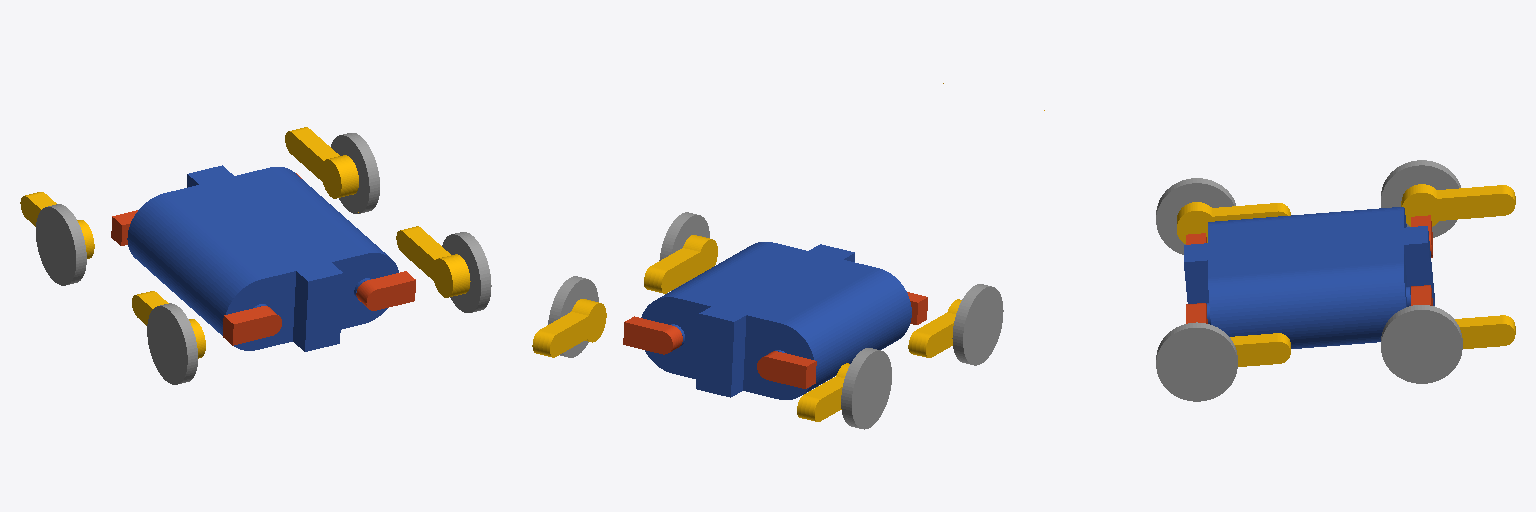
--- Facts derived from the render (not from the file) ---
Views: 3 orthographic renders of the robot side by side, from view 1: azimuth 30°, elevation 25°; view 2: azimuth 150°, elevation 25°; view 3: azimuth 270°, elevation 25°.
Model wheely with 18 links and 17 joints (16 revolute, 1 fixed), rooted at base, posed all joints at 0.
Links seen in each view (by area): view 1: trunk, BRW, FRW, BLLL, FLLL, FLW, BLW, FLH, FRH, FRLL, BRLL, BRH; view 2: trunk, BRW, FRW, BLLL, FLLL, BRH, BLH, FRLL, BRLL, BLW, FLW; view 3: trunk, BLW, FLW, BRLL, FRW, BRW, FRLL, FLLL, BLLL.
Boxes of the visible links, x1=… form: trunk: x1=127, y1=165, x2=398, y2=351; BRW: x1=36, y1=204, x2=86, y2=285; FRW: x1=147, y1=303, x2=197, y2=384; BLLL: x1=285, y1=127, x2=358, y2=198; FLLL: x1=396, y1=226, x2=470, y2=297; FLW: x1=442, y1=232, x2=491, y2=312; BLW: x1=331, y1=133, x2=379, y2=213; FLH: x1=356, y1=271, x2=415, y2=310; FRH: x1=223, y1=306, x2=281, y2=345; FRLL: x1=132, y1=291, x2=205, y2=358; BRLL: x1=20, y1=192, x2=94, y2=258; BRH: x1=111, y1=210, x2=137, y2=245; trunk: x1=641, y1=242, x2=911, y2=399; BRW: x1=841, y1=348, x2=891, y2=429; FRW: x1=952, y1=284, x2=1003, y2=365; BLLL: x1=532, y1=299, x2=606, y2=357; FLLL: x1=644, y1=235, x2=717, y2=293; BRH: x1=757, y1=351, x2=816, y2=388; BLH: x1=623, y1=316, x2=682, y2=354; FRLL: x1=908, y1=299, x2=961, y2=357; BRLL: x1=797, y1=363, x2=849, y2=421; BLW: x1=548, y1=276, x2=598, y2=357; FLW: x1=659, y1=212, x2=709, y2=288; trunk: x1=1184, y1=207, x2=1434, y2=348; BLW: x1=1381, y1=305, x2=1462, y2=383; FLW: x1=1156, y1=322, x2=1237, y2=401; BRLL: x1=1401, y1=184, x2=1515, y2=226; FRW: x1=1156, y1=178, x2=1235, y2=254; BRW: x1=1381, y1=160, x2=1460, y2=237; FRLL: x1=1177, y1=202, x2=1290, y2=243; FLLL: x1=1230, y1=333, x2=1290, y2=366; BLLL: x1=1455, y1=315, x2=1515, y2=348.
Bounding box of the posed robot: 0.433 × 0.5761 × 0.2688 m (x, y, z).
Meshes: 5 distinct files referenced, 13 mesh visuals loaded (4 binary STL); not drawn: 4 (reference not matched to a file when rendering).

The robot description file, URDF, robot "wheely":
<?xml version="1.0" encoding="utf-8"?>
<robot name="wheely">
    <link name="base">
        <visual>
            <origin rpy="0 0 0" xyz="0 0 0" />
            <geometry>
                <box size="0.001 0.001 0.001" />
            </geometry>
        </visual>
    </link>
    <joint name="floating_base" type="fixed">
        <origin rpy="0 0 0" xyz="0 0 0" />
        <parent link="base" />
        <child link="trunk" />
    </joint>
    <link name="trunk">
        <visual>
            <origin xyz="0.052028044034958947917 0.32788004898623768213 -0.25518667591527960381"
                rpy="0.087266480467832654999 -1.4990033074911502359e-08 -2.2094851261557873804e-08" />
            <geometry>
                <mesh filename="../meshes/V2.8/trunk.stl" />
            </geometry>
            <material name="trunk_material">
                <color rgba="0.2313725490196078538 0.38039215686274507888 0.7058823529411765163 1.0" />
            </material>
        </visual>
        <collision>
            <origin xyz="0.052028044034958947917 0.32788004898623768213 -0.25518667591527960381"
                rpy="0.087266480467832654999 -1.4990033074911502359e-08 -2.2094851261557873804e-08" />
            <geometry>
                <mesh filename="../meshes/V2.8/trunk.stl" />
            </geometry>
        </collision>
        <inertial>
            <origin xyz="0.052028043192024649166 0.32352226095884867307 -0.20537694108855775177"
                rpy="0 0 0" />
            <mass value="1.0520000000000000462" />
            <inertia ixx="0.0066139164607848313637" ixy="-2.2127823919599840592e-11"
                ixz="-6.4087305219667747752e-11" iyy="0.0053174843071791873944"
                iyz="-0.00043473231152154929047" izz="0.010248462186210408054" />
        </inertial>
    </link>

    <link name="FRH">
        <visual>
            <origin xyz="0.032215611636638635806 0.028555101990603987128 0"
                rpy="1.570796326794896558 1.1108205397628203633e-25 2.389243996016179635e-24" />
            <geometry>
                <mesh filename="../meshes/V2.8/h.stl" />
            </geometry>
            <material name="h_material">
                <color
                    rgba="0.86666666666666669627 0.32156862745098041545 0.15686274509803921351 1.0" />
            </material>
        </visual>
        <collision>
            <origin xyz="0.032215611636638635806 0.028555101990603987128 0"
                rpy="1.570796326794896558 1.1108205397628203633e-25 2.389243996016179635e-24" />
            <geometry>
                <mesh filename="../meshes/V2.8/h.stl" />
            </geometry>
        </collision>
        <inertial>
            <origin
                xyz="0.021525592503996215932 -1.7347234759768070944e-17 -0.012500000000000000694"
                rpy="0 0 0" />
            <mass value="0.0090000000000000010547" />
            <inertia ixx="1.1139804559497147109e-06" ixy="-4.7104694595813762511e-30"
                ixz="2.1217815524415606115e-30" iyy="3.861958513835964979e-06"
                iyz="4.2501859106604311021e-23" izz="4.0384389697856793485e-06" />
        </inertial>
    </link>

    <link name="FRLU">
        <visual>
            <origin
                xyz="2.7755575615628913511e-17 2.7755575615628913511e-17 -0.044999999999999998335"
                rpy="-1.570796326794896558 -1.570796326794896558 0" />
            <geometry>
                <mesh filename="../meshes/V2.8/lu.stl" />
            </geometry>
            <material name="lu_material">
                <color
                    rgba="0.90980392156862743835 0.57254901960784310155 0.16470588235294117418 1.0" />
            </material>
        </visual>
        <collision>
            <origin
                xyz="2.7755575615628913511e-17 2.7755575615628913511e-17 -0.044999999999999998335"
                rpy="-1.570796326794896558 -1.570796326794896558 0" />
            <geometry>
                <mesh filename="../meshes/V2.8/lu.stl" />
            </geometry>
        </collision>
        <inertial>
            <origin
                xyz="3.3936924476517365403e-17 -0.049999999999999968081 -0.022499999999999992228"
                rpy="0 0 0" />
            <mass value="0.37600000000000000089" />
            <inertia ixx="0.00054596018323756559387" ixy="-6.2909339871692696768e-21"
                ixz="-2.7466218204555690158e-28" iyy="9.0305640199817038306e-05"
                iyz="-1.1186833988322070734e-27" izz="0.00050936582343738242076" />
        </inertial>
    </link>

    <link name="FRLL">
        <visual>
            <origin xyz="0 0 -0.024999999999999980571"
                rpy="-1.570796326794896558 -1.570796326794896558 0" />
            <geometry>
                <mesh filename="../meshes/V2.8/ll.stl" />
            </geometry>
            <material name="ll_material">
                <color rgba="1 0.7568627450980391913 0.054901960784313724728 1.0" />
            </material>
        </visual>
        <collision>
            <origin xyz="0 0 -0.024999999999999980571"
                rpy="-1.570796326794896558 -1.570796326794896558 0" />
            <geometry>
                <mesh filename="../meshes/V2.8/ll.stl" />
            </geometry>
        </collision>
        <inertial>
            <origin
                xyz="5.4351954812993782202e-18 -0.061136909622975937895 -0.012499999999999978142"
                rpy="0 0 0" />
            <mass value="0.058000000000000002942" />
            <inertia ixx="9.3657217382847482521e-05" ixy="1.8944387790966397996e-21"
                ixz="1.9264078887896144911e-28" iyy="9.3296789238021415761e-06"
                iyz="8.0611222752185609261e-29" izz="9.6945229639982987888e-05" />
        </inertial>
    </link>

    <link name="FRW">
        <visual>
            <origin xyz="-0.087087206542491885086 -0.027046862989664105514 -0.015000000000000041078"
                rpy="-1.570796326794896558 -1.570796326794896558 0" />
            <geometry>
                <mesh filename="../meshes/V2.8/w.stl" />
            </geometry>
            <material name="w_material">
                <color
                    rgba="0.64705882352941179736 0.64705882352941179736 0.64705882352941179736 1.0" />
            </material>
        </visual>
        <collision>
            <origin xyz="-0.087087206542491885086 -0.027046862989664105514 -0.015000000000000041078"
                rpy="-1.570796326794896558 -1.570796326794896558 0" />
            <geometry>
                <mesh filename="../meshes/V2.8/w.stl" />
            </geometry>
        </collision>
        <inertial>
            <origin
                xyz="4.1117825183426055003e-17 -2.7755575615628913511e-17 -0.0075000000000000422232"
                rpy="0 0 0" />
            <mass value="0.036999999999999998168" />
            <inertia ixx="2.3818750000000009755e-05" ixy="-3.3980231466975062248e-22"
                ixz="-2.3298381774475384034e-28" iyy="2.3818750000000006367e-05"
                iyz="6.4062349800968410432e-29" izz="4.6249999999999985784e-05" />
        </inertial>
    </link>

    <joint name="FRW" type="revolute">
        <origin xyz="0 -0.09999999999999995004 -0.025499999999999981015"
            rpy="1.9733806694702264955e-23 -1.1152152026486324738e-23 1.57079632679489678" />
        <parent link="FRLL" />
        <child link="FRW" />
        <axis xyz="0 0 1" />
        <limit effort="3.43" velocity="1.5707" />
        <joint_properties friction="0.0" />
    </joint>

    <joint name="FRK" type="revolute">
        <origin xyz="2.7755575615628913511e-17 -0.099999999999999894529 -0.045500000000000012657"
            rpy="-7.1116470838921432146e-22 -2.2925350776676440181e-23 3.141592653589753148" />
        <parent link="FRLU" />
        <child link="FRLL" />
        <axis xyz="0 0 1" />
        <limit effort="6.864655" velocity="8.055365759832842" lower="0" upper="3.141592653589793116" />
        <joint_properties friction="0.0" />
    </joint>

    <joint name="FRHL" type="revolute">
        <origin xyz="0.055499999999999966027 -5.5511151231257827021e-17 -0.012499999999999983347"
            rpy="-1.570796326794896558 -1.7868117234929788401e-08 1.5707963267948958919" />
        <parent link="FRH" />
        <child link="FRLU" />
        <axis xyz="0 0 1" />
        <limit effort="6.864655" velocity="8.055365759832842" lower="-3.141592653589793116" upper="0" />
        <joint_properties friction="0.0" />
    </joint>

    <joint name="FRHU" type="revolute">
        <origin xyz="-0.022971959406365649592 0.19849982820089065449 -0.21631499016155675275"
            rpy="1.4835298463270636393 1.4990033393763916416e-08 3.1415926314949418341" />
        <parent link="trunk" />
        <child link="FRH" />
        <axis xyz="0 0 1" />
        <limit effort="6.864655" velocity="8.055365759832842" lower="-1.570796326794896558" upper="1.570796326794896558" />
        <joint_properties friction="0.0" />
    </joint>

    <link name="FLH">
        <visual>
            <origin xyz="0.032215611636638635806 0.028555101990604014883 0"
                rpy="1.570796326794896558 9.1075724079965769096e-25 1.505906012323039885e-24" />
            <geometry>
                <mesh filename="../meshes/V2.8/h.stl" />
            </geometry>
            <material name="h_material">
                <color
                    rgba="0.86666666666666669627 0.32156862745098041545 0.15686274509803921351 1.0" />
            </material>
        </visual>
        <collision>
            <origin xyz="0.032215611636638635806 0.028555101990604014883 0"
                rpy="1.570796326794896558 9.1075724079965769096e-25 1.505906012323039885e-24" />
            <geometry>
                <mesh filename="../meshes/V2.8/h.stl" />
            </geometry>
        </collision>
        <inertial>
            <origin xyz="0.021525592503996215932 1.0408340855860842566e-17 -0.012500000000000000694"
                rpy="0 0 0" />
            <mass value="0.0090000000000000010547" />
            <inertia ixx="1.1139804559497151344e-06" ixy="-1.9689084518447163995e-31"
                ixz="3.3800616490418434534e-30" iyy="3.861958513835964979e-06"
                iyz="-2.7196292853585677277e-23" izz="4.0384389697856793485e-06" />
        </inertial>
    </link>

    <link name="FLLU">
        <visual>
            <origin xyz="-2.7755575615628913511e-17 -2.7755575615628913511e-17 0"
                rpy="1.570796326794896558 1.570796326794896558 0" />
            <geometry>
                <mesh filename="../meshes/V2.8/lu.stl" />
            </geometry>
            <material name="lu_material">
                <color
                    rgba="0.90980392156862743835 0.57254901960784310155 0.16470588235294117418 1.0" />
            </material>
        </visual>
        <collision>
            <origin xyz="-2.7755575615628913511e-17 -2.7755575615628913511e-17 0"
                rpy="1.570796326794896558 1.570796326794896558 0" />
            <geometry>
                <mesh filename="../meshes/V2.8/lu.stl" />
            </geometry>
        </collision>
        <inertial>
            <origin
                xyz="-2.2274676627093840081e-17 0.049999999999999981959 -0.022500000000000006106"
                rpy="0 0 0" />
            <mass value="0.37600000000000000089" />
            <inertia ixx="0.00054596018323756537703" ixy="-2.2992841737624431057e-21"
                ixz="2.7015283880290629614e-28" iyy="9.0305640199817092516e-05"
                iyz="-9.070826082759685624e-29" izz="0.00050936582343738242076" />
        </inertial>
    </link>

    <link name="FLLL">
        <visual>
            <origin xyz="0 0 0" rpy="1.570796326794896558 1.570796326794896558 0" />
            <geometry>
                <mesh filename="../meshes/V2.8/ll.stl" />
            </geometry>
            <material name="ll_material">
                <color rgba="1 0.7568627450980391913 0.054901960784313724728 1.0" />
            </material>
        </visual>
        <collision>
            <origin xyz="0 0 0" rpy="1.570796326794896558 1.570796326794896558 0" />
            <geometry>
                <mesh filename="../meshes/V2.8/ll.stl" />
            </geometry>
        </collision>
        <inertial>
            <origin xyz="5.7405508275014623238e-18 0.061136909622975937895 -0.012500000000000002429"
                rpy="0 0 0" />
            <mass value="0.058000000000000002942" />
            <inertia ixx="9.3657217382847509626e-05" ixy="1.3290574521296746837e-21"
                ixz="6.6457046954983543975e-31" iyy="9.3296789238021415761e-06"
                iyz="1.723172485519355639e-28" izz="9.6945229639982987888e-05" />
        </inertial>
    </link>

    <link name="FLW">
        <visual>
            <origin xyz="-0.087087206542491898964 0.027046862989664105514 0"
                rpy="1.570796326794896558 1.570796326794896558 0" />
            <geometry>
                <mesh filename="../meshes/V2.8/w.stl" />
            </geometry>
            <material name="w_material">
                <color
                    rgba="0.64705882352941179736 0.64705882352941179736 0.64705882352941179736 1.0" />
            </material>
        </visual>
        <collision>
            <origin xyz="-0.087087206542491898964 0.027046862989664105514 0"
                rpy="1.570796326794896558 1.570796326794896558 0" />
            <geometry>
                <mesh filename="../meshes/V2.8/w.stl" />
            </geometry>
        </collision>
        <inertial>
            <origin
                xyz="1.4189161324449813362e-17 2.7755575615628913511e-17 -0.0074999999999999997224"
                rpy="0 0 0" />
            <mass value="0.036999999999999998168" />
            <inertia ixx="2.3818749999999996202e-05" ixy="-5.4842054254748524998e-22"
                ixz="-4.3511704709532121015e-29" iyy="2.3818750000000006367e-05"
                iyz="1.5881364658331320458e-29" izz="4.6249999999999999336e-05" />
        </inertial>
    </link>

    <joint name="FLW" type="revolute">
        <origin xyz="-5.5511151231257827021e-17 0.10000000000000056066 -0.025499999999999994893"
            rpy="-1.7353970132847589299e-16 5.3303376734589298289e-17 -1.5707963267948992225" />
        <parent link="FLLL" />
        <child link="FLW" />
        <axis xyz="0 0 1" />
        <limit effort="3.43" velocity="1.5707" />
        <joint_properties friction="0.0" />
    </joint>

    <joint name="FLK" type="revolute">
        <origin xyz="-2.7755575615628913511e-17 0.10000000000000000555 -0.045500000000000068168"
            rpy="-7.8652590286309986181e-18 -4.7062504561224808517e-16 3.1415926520183123927" />
        <parent link="FLLU" />
        <child link="FLLL" />
        <axis xyz="0 0 1" />
        <limit effort="6.864655" velocity="8.055365759832842" lower="-3.141592653589793116" upper="0" />
        <joint_properties friction="0.0" />
    </joint>

    <joint name="FLHL" type="revolute">
        <origin xyz="0.055500000000000021538 2.7755575615628913511e-17 -0.012500000000000011102"
            rpy="1.570796326794896558 -4.159598675987668933e-09 -1.5707963267948958919" />
        <parent link="FLH" />
        <child link="FLLU" />
        <axis xyz="0 0 1" />
        <limit effort="6.864655" velocity="8.055365759832842" lower="0" upper="3.141592653589793116" />
        <joint_properties friction="0.0" />
    </joint>

    <joint name="FLHU" type="revolute">
        <origin xyz="0.12702804059363420608 0.19849982488666309544 -0.21631498791305175944"
            rpy="-1.4835298463270638614 6.7904519714569485168e-09 -2.0189305413825018056e-08" />
        <parent link="trunk" />
        <child link="FLH" />
        <axis xyz="0 0 1" />
        <limit effort="6.864655" velocity="8.055365759832842" lower="-1.570796326794896558" upper="1.570796326794896558" />
        <joint_properties friction="0.0" />
    </joint>

    <link name="BLH">
        <visual>
            <origin xyz="0.032215611636638663562 -0.028555101990604014883 -0.025000000000000022204"
                rpy="-1.570796326794896558 -8.10198965264292864e-25 9.4990879062215657594e-26" />
            <geometry>
                <mesh filename="../meshes/V2.8/h.stl" />
            </geometry>
            <material name="h_material">
                <color
                    rgba="0.86666666666666669627 0.32156862745098041545 0.15686274509803921351 1.0" />
            </material>
        </visual>
        <collision>
            <origin xyz="0.032215611636638663562 -0.028555101990604014883 -0.025000000000000022204"
                rpy="-1.570796326794896558 -8.10198965264292864e-25 9.4990879062215657594e-26" />
            <geometry>
                <mesh filename="../meshes/V2.8/h.stl" />
            </geometry>
        </collision>
        <inertial>
            <origin
                xyz="0.021525592503996243687 -1.0408340855860842566e-17 -0.012500000000000018041"
                rpy="0 0 0" />
            <mass value="0.0090000000000000010547" />
            <inertia ixx="1.1139804559497151344e-06" ixy="5.4442413068550483629e-31"
                ixz="1.6844066981830151369e-30" iyy="3.861958513835964979e-06"
                iyz="8.6849436149024970986e-23" izz="4.0384389697856810426e-06" />
        </inertial>
    </link>

    <link name="BLLU">
        <visual>
            <origin xyz="-5.5511151231257827021e-17 0 0"
                rpy="1.570796326794896558 1.570796326794896558 0" />
            <geometry>
                <mesh filename="../meshes/V2.8/lu.stl" />
            </geometry>
            <material name="lu_material">
                <color
                    rgba="0.90980392156862743835 0.57254901960784310155 0.16470588235294117418 1.0" />
            </material>
        </visual>
        <collision>
            <origin xyz="-5.5511151231257827021e-17 0 0"
                rpy="1.570796326794896558 1.570796326794896558 0" />
            <geometry>
                <mesh filename="../meshes/V2.8/lu.stl" />
            </geometry>
        </collision>
        <inertial>
            <origin
                xyz="-4.9670691399645773857e-17 0.049999999999999995837 -0.022500000000000006106"
                rpy="0 0 0" />
            <mass value="0.37600000000000000089" />
            <inertia ixx="0.00054596018323756537703" ixy="1.1357734578361653713e-21"
                ixz="1.6575077737249074558e-29" iyy="9.0305640199817038306e-05"
                iyz="-7.7086529605856559569e-28" izz="0.00050936582343738242076" />
        </inertial>
    </link>

    <link name="BLLL">
        <visual>
            <origin xyz="2.7755575615628913511e-17 0 0"
                rpy="1.570796326794896558 1.570796326794896558 0" />
            <geometry>
                <mesh filename="../meshes/V2.8/ll.stl" />
            </geometry>
            <material name="ll_material">
                <color rgba="1 0.7568627450980391913 0.054901960784313724728 1.0" />
            </material>
        </visual>
        <collision>
            <origin xyz="2.7755575615628913511e-17 0 0"
                rpy="1.570796326794896558 1.570796326794896558 0" />
            <geometry>
                <mesh filename="../meshes/V2.8/ll.stl" />
            </geometry>
        </collision>
        <inertial>
            <origin xyz="3.1490883241477422783e-17 0.061136909622975937895 -0.012500000000000002429"
                rpy="0 0 0" />
            <mass value="0.058000000000000002942" />
            <inertia ixx="9.3657217382847563836e-05" ixy="-4.5788073598597132874e-22"
                ixz="-8.9882329698141912439e-30" iyy="9.3296789238021415761e-06"
                iyz="3.1104732328345600481e-28" izz="9.6945229639982987888e-05" />
        </inertial>
    </link>

    <link name="BLW">
        <visual>
            <origin xyz="-0.087087206542491912842 0.027046862989664050003 0"
                rpy="1.570796326794896558 1.570796326794896558 0" />
            <geometry>
                <mesh filename="../meshes/V2.8/w.stl" />
            </geometry>
            <material name="w_material">
                <color
                    rgba="0.64705882352941179736 0.64705882352941179736 0.64705882352941179736 1.0" />
            </material>
        </visual>
        <collision>
            <origin xyz="-0.087087206542491912842 0.027046862989664050003 0"
                rpy="1.570796326794896558 1.570796326794896558 0" />
            <geometry>
                <mesh filename="../meshes/V2.8/w.stl" />
            </geometry>
        </collision>
        <inertial>
            <origin
                xyz="2.8662840708343162277e-20 -2.7755575615628913511e-17 -0.0074999999999999997224"
                rpy="0 0 0" />
            <mass value="0.036999999999999998168" />
            <inertia ixx="2.3818749999999996202e-05" ixy="1.1371586916183490444e-22"
                ixz="-3.4166129223600548991e-29" iyy="2.3818750000000006367e-05"
                iyz="3.7530894346167913993e-30" izz="4.6249999999999999336e-05" />
        </inertial>
    </link>

    <joint name="BLW" type="revolute">
        <origin xyz="0 0.10000000000000003331 -0.025500000000000022649"
            rpy="-3.6944196118392699176e-24 8.8577126057210653786e-24 1.570796326794896558" />
        <parent link="BLLL" />
        <child link="BLW" />
        <axis xyz="0 0 1" />
        <limit effort="3.43" velocity="1.5707" />
        <joint_properties friction="0.0" />
    </joint>

    <joint name="BLK" type="revolute">
        <origin xyz="-2.7755575615628913511e-17 0.10000000000000003331 -0.045499999999999984901"
            rpy="1.4434690318418828902e-23 -2.1427618407478369809e-16 3.1415926503251903057" />
        <parent link="BLLU" />
        <child link="BLLL" />
        <axis xyz="0 0 1" />
        <limit effort="6.864655" velocity="8.055365759832842" lower="-3.141592653589793116" upper="0" />
        <joint_properties friction="0.0" />
    </joint>

    <joint name="BLHL" type="revolute">
        <origin xyz="0.055500000000000049294 0 -0.012500000000000011102"
            rpy="-1.570796326794896558 4.159598612862823089e-09 1.57079632679489678" />
        <parent link="BLH" />
        <child link="BLLU" />
        <axis xyz="0 0 1" />
        <limit effort="6.864655" velocity="8.055365759832842" lower="0" upper="3.141592653589793116" />
        <joint_properties friction="0.0" />
    </joint>

    <joint name="BLHU" type="revolute">
        <origin xyz="0.12702804579041498956 0.44854469371680671941 -0.19443889201555877855"
            rpy="1.6580628072627294767 1.8044978216328643843e-09 -2.0625520126565480844e-08" />
        <parent link="trunk" />
        <child link="BLH" />
        <axis xyz="0 0 1" />
        <limit effort="6.864655" velocity="8.055365759832842" lower="-1.570796326794896558" upper="1.570796326794896558" />
        <joint_properties friction="0.0" />
    </joint>

    <link name="BRH">
        <visual>
            <origin xyz="0.032215611636638642745 -0.028555101990603987128 -0.025000000000000022204"
                rpy="-1.570796326794896558 -1.4998403820108036855e-24 -4.3122347891137220117e-26" />
            <geometry>
                <mesh filename="../meshes/V2.8/h.stl" />
            </geometry>
            <material name="h_material">
                <color
                    rgba="0.86666666666666669627 0.32156862745098041545 0.15686274509803921351 1.0" />
            </material>
        </visual>
        <collision>
            <origin xyz="0.032215611636638642745 -0.028555101990603987128 -0.025000000000000022204"
                rpy="-1.570796326794896558 -1.4998403820108036855e-24 -4.3122347891137220117e-26" />
            <geometry>
                <mesh filename="../meshes/V2.8/h.stl" />
            </geometry>
        </collision>
        <inertial>
            <origin xyz="0.021525592503996222871 1.7347234759768070944e-17 -0.012500000000000018041"
                rpy="0 0 0" />
            <mass value="0.0090000000000000010547" />
            <inertia ixx="1.1139804559497151344e-06" ixy="9.3627191242228544418e-32"
                ixz="-4.7049295494197803859e-30" iyy="3.861958513835964979e-06"
                iyz="-1.4219191714590580432e-22" izz="4.0384389697856810426e-06" />
        </inertial>
    </link>

    <link name="BRLU">
        <visual>
            <origin xyz="0 0 -0.044999999999999998335"
                rpy="-1.570796326794896558 -1.570796326794896558 0" />
            <geometry>
                <mesh filename="../meshes/V2.8/lu.stl" />
            </geometry>
            <material name="lu_material">
                <color
                    rgba="0.90980392156862743835 0.57254901960784310155 0.16470588235294117418 1.0" />
            </material>
        </visual>
        <collision>
            <origin xyz="0 0 -0.044999999999999998335"
                rpy="-1.570796326794896558 -1.570796326794896558 0" />
            <geometry>
                <mesh filename="../meshes/V2.8/lu.stl" />
            </geometry>
        </collision>
        <inertial>
            <origin
                xyz="5.5531692938527983593e-18 -0.049999999999999995837 -0.022499999999999992228"
                rpy="0 0 0" />
            <mass value="0.37600000000000000089" />
            <inertia ixx="0.00054596018323756516019" ixy="6.9271241937707520723e-21"
                ixz="3.9087517827652982159e-29" iyy="9.0305640199817065411e-05"
                iyz="-1.0600944170879576797e-27" izz="0.00050936582343738242076" />
        </inertial>
    </link>

    <link name="BRLL">
        <visual>
            <origin xyz="0 -1.1102230246251565404e-16 -0.025000000000000008327"
                rpy="-1.570796326794896558 -1.570796326794896558 0" />
            <geometry>
                <mesh filename="../meshes/V2.8/ll.stl" />
            </geometry>
            <material name="ll_material">
                <color rgba="1 0.7568627450980391913 0.054901960784313724728 1.0" />
            </material>
        </visual>
        <collision>
            <origin xyz="0 -1.1102230246251565404e-16 -0.025000000000000008327"
                rpy="-1.570796326794896558 -1.570796326794896558 0" />
            <geometry>
                <mesh filename="../meshes/V2.8/ll.stl" />
            </geometry>
        </collision>
        <inertial>
            <origin
                xyz="4.7243804506977838144e-18 -0.061136909622976041978 -0.012500000000000005898"
                rpy="0 0 0" />
            <mass value="0.058000000000000002942" />
            <inertia ixx="9.3657217382847482521e-05" ixy="1.6483546605587253019e-21"
                ixz="-8.8628767452269487272e-30" iyy="9.3296789238021381879e-06"
                iyz="5.3997135265007105726e-28" izz="9.6945229639982987888e-05" />
        </inertial>
    </link>

    <link name="BRW">
        <visual>
            <origin xyz="-0.087087206542491912842 -0.027046862989664077759 -0.014999999999999985567"
                rpy="-1.570796326794896558 -1.570796326794896558 0" />
            <geometry>
                <mesh filename="../meshes/V2.8/w.stl" />
            </geometry>
            <material name="w_material">
                <color
                    rgba="0.64705882352941179736 0.64705882352941179736 0.64705882352941179736 1.0" />
            </material>
        </visual>
        <collision>
            <origin xyz="-0.087087206542491912842 -0.027046862989664077759 -0.014999999999999985567"
                rpy="-1.570796326794896558 -1.570796326794896558 0" />
            <geometry>
                <mesh filename="../meshes/V2.8/w.stl" />
            </geometry>
        </collision>
        <inertial>
            <origin xyz="-2.8890779271810086101e-19 0 -0.007499999999999986712" rpy="0 0 0" />
            <mass value="0.036999999999999998168" />
            <inertia ixx="2.3818749999999996202e-05" ixy="-1.4893564017461954635e-22"
                ixz="-2.1087778044115507542e-28" iyy="2.3818750000000006367e-05"
                iyz="1.0999008652864504797e-30" izz="4.6249999999999999336e-05" />
        </inertial>
    </link>

    <joint name="BRW" type="revolute">
        <origin xyz="0 -0.10000000000000014433 -0.025500000000000008771"
            rpy="-1.4611617380436203065e-24 -7.6761477915259036595e-24 -1.5707963267949449637" />
        <parent link="BRLL" />
        <child link="BRW" />
        <axis xyz="0 0 1" />
        <limit effort="3.43" velocity="1.5707" />
        <joint_properties friction="0.0" />
    </joint>

    <joint name="BRK" type="revolute">
        <origin xyz="0 -0.10000000000000008882 -0.045499999999999998779"
            rpy="2.4133500580982883301e-16 -8.1245406211814635824e-17 -3.1415926503251419" />
        <parent link="BRLU" />
        <child link="BRLL" />
        <axis xyz="0 0 1" />
        <limit effort="6.864655" velocity="8.055365759832842" lower="0" upper="3.141592653589793116" />
        <joint_properties friction="0.0" />
    </joint>

    <joint name="BRHL" type="revolute">
        <origin xyz="0.055499999999999979905 0 -0.012500000000000011102"
            rpy="1.570796326794896558 4.1595986025831493502e-09 -1.5707963267948985564" />
        <parent link="BRH" />
        <child link="BRLU" />
        <axis xyz="0 0 1" />
        <limit effort="6.864655" velocity="8.055365759832842" lower="-3.141592653589793116" upper="0" />
        <joint_properties friction="0.0" />
    </joint>

    <joint name="BRHU" type="revolute">
        <origin xyz="-0.022971954209584755091 0.44854469703103438949 -0.1944388942640637441"
            rpy="-1.6580628072627294767 -1.8044955021529479955e-09 3.1415926329642727133" />
        <parent link="trunk" />
        <child link="BRH" />
        <axis xyz="0 0 1" />
        <limit effort="6.864655" velocity="8.055365759832842" lower="-1.570796326794896558" upper="1.570796326794896558" />
        <joint_properties friction="0.0" />
    </joint>


</robot>
